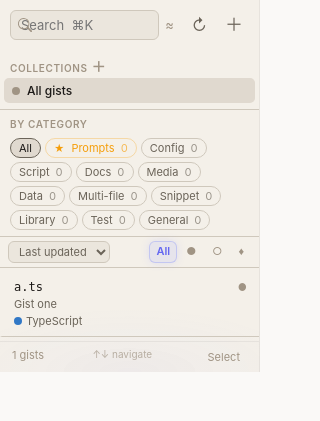
Scenario: Sidebar › entering select mode shows the bulk action bar
Click the button "Select": [224, 357] box 200,348 -> 247,366
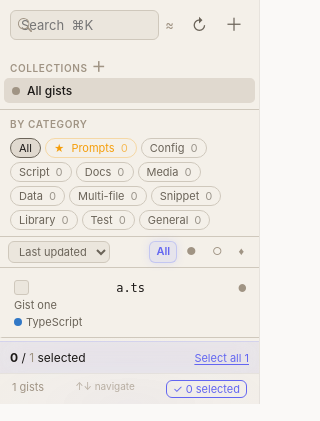
Expected: the element showing "0 / 1 selected Select all 1" is shown, 0,341 -> 259,373
